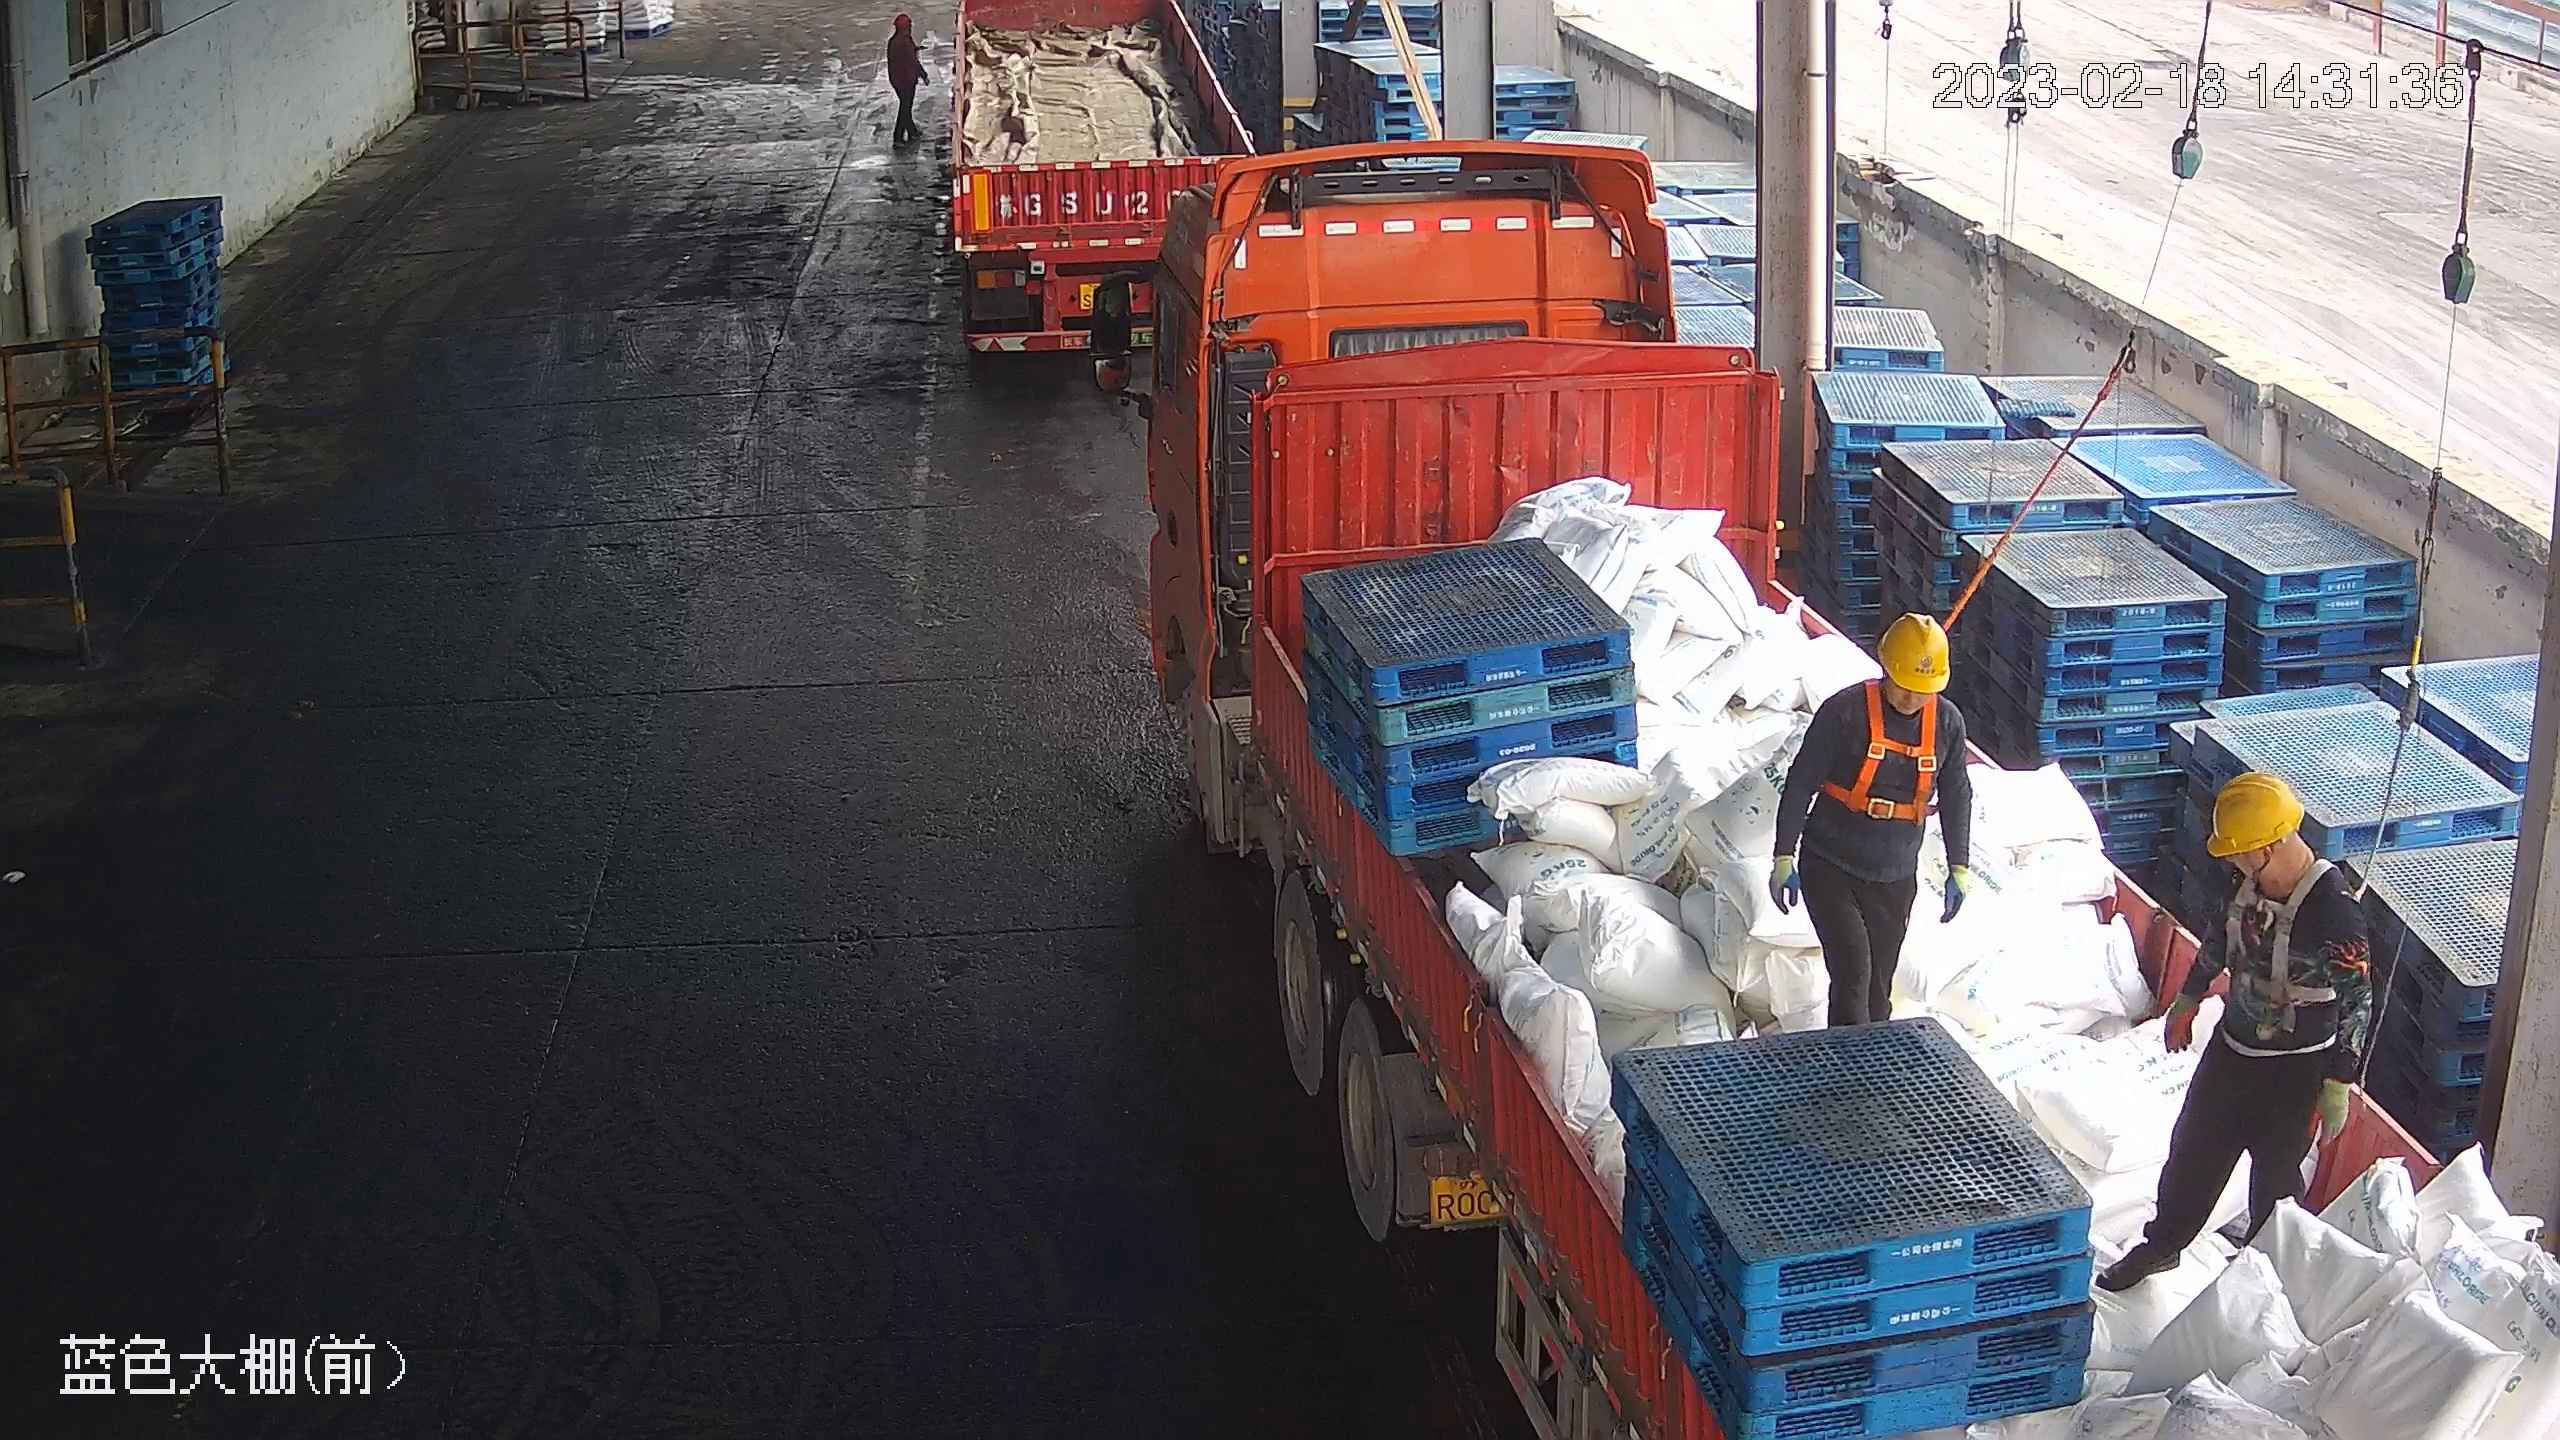belt: (2221, 860, 2368, 1018), (1829, 673, 1946, 819)
head: (2200, 768, 2371, 944), (1803, 608, 1967, 749), (883, 13, 922, 58)
helmet: (2201, 767, 2306, 855), (1873, 610, 1951, 693), (892, 11, 916, 30)
people: (2098, 770, 2379, 1303), (1763, 617, 1977, 1030), (881, 10, 932, 151)
truck: (1101, 135, 2523, 1440), (936, 3, 1266, 367)
